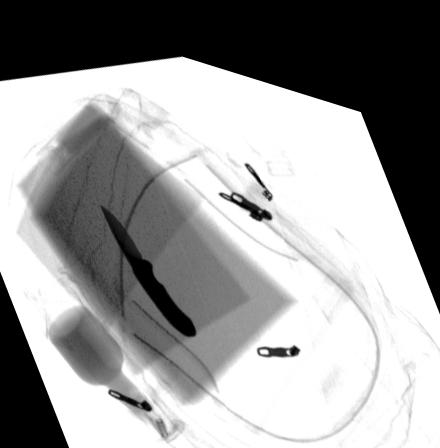Knife: (99, 197, 199, 328)
